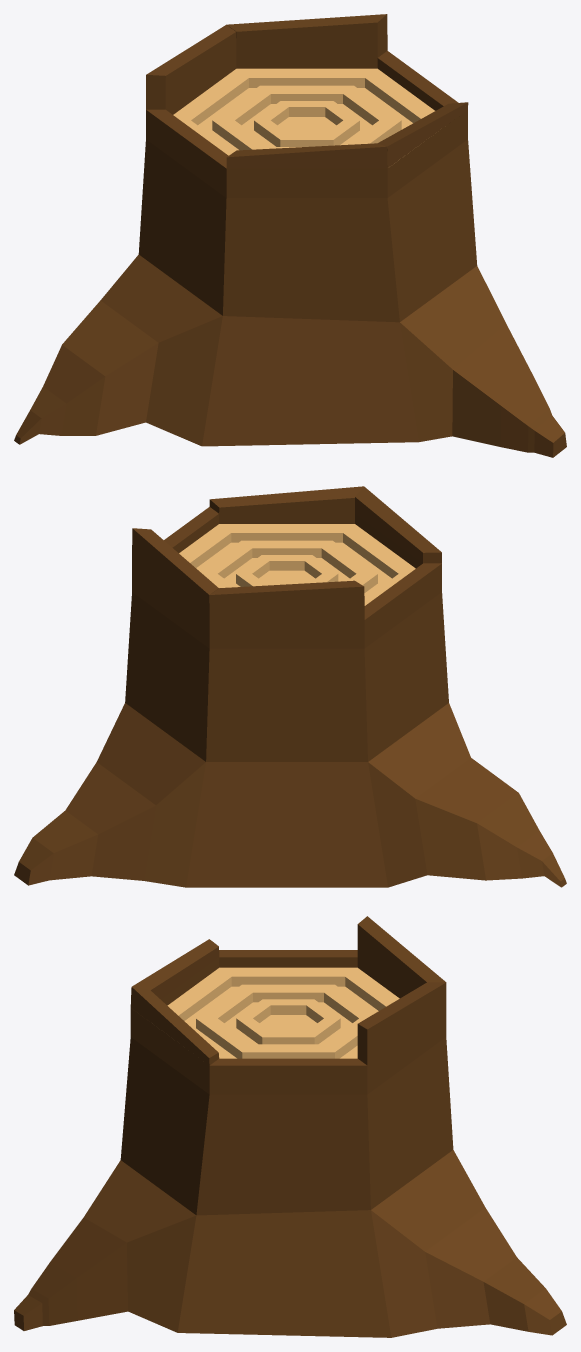
File: tronco3.fbx
3 views of the same model, one above another, from view 1: azimuth 30°, elevation 25°; view 2: azimuth 150°, elevation 25°; view 3: azimuth 270°, elevation 25° (orthographic). The views are drawn at different scales.
Visible parts, largest first — view 1: Circle.004; view 2: Circle.004; view 3: Circle.004.
Part boxes in pixels (left/top/right/bottom): Circle.004: left=14, top=14, right=566, bottom=457; Circle.004: left=14, top=486, right=566, bottom=887; Circle.004: left=14, top=916, right=566, bottom=1337.
Bounding box in the file's own units: 4.17 × 2.76 × 4.57.
